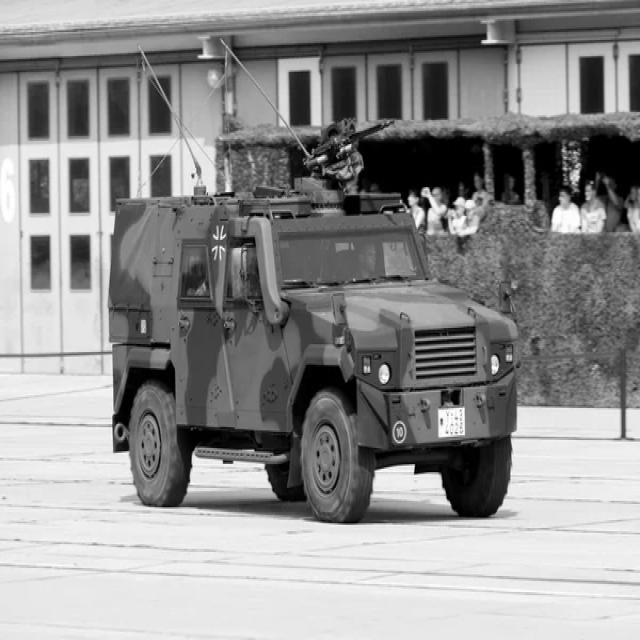Car: (108, 178, 518, 522)
